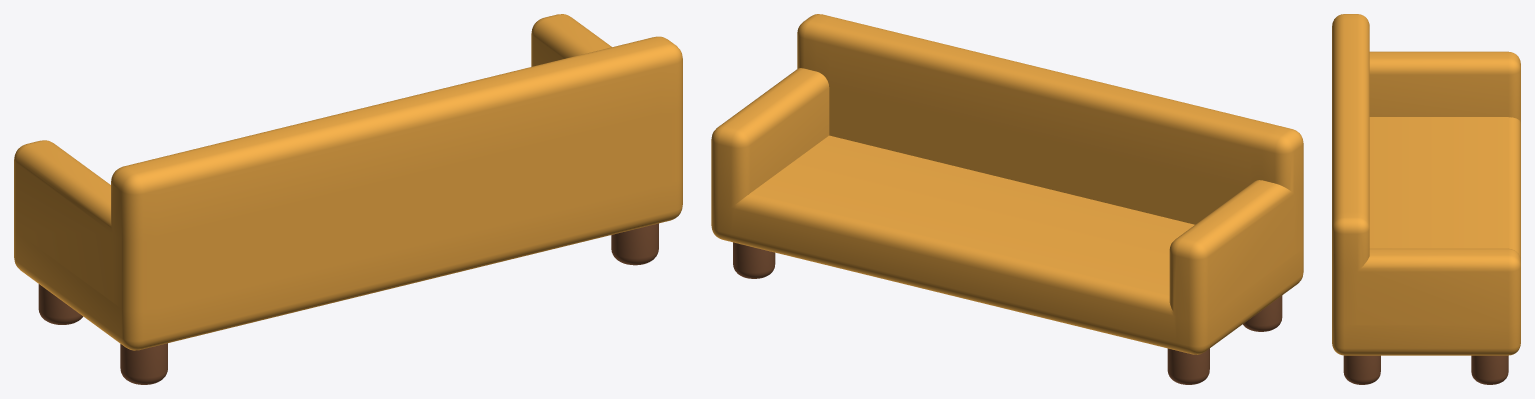
The model's file is Couch2.fbx.
The picture shows the model from 3 angles, left to right: view 1: azimuth 30°, elevation 25°; view 2: azimuth 150°, elevation 25°; view 3: azimuth 270°, elevation 25°; orthographic projection. The views are drawn at different scales.
Visible parts, largest first — view 1: Couch2; view 2: Couch2; view 3: Couch2.
Part boxes in pixels (x1,y1,x2,y2): Couch2: (14, 14, 682, 384); Couch2: (711, 14, 1303, 384); Couch2: (1332, 14, 1520, 384).
Bounding box in the file's own units: 200 × 74.69 × 75.
